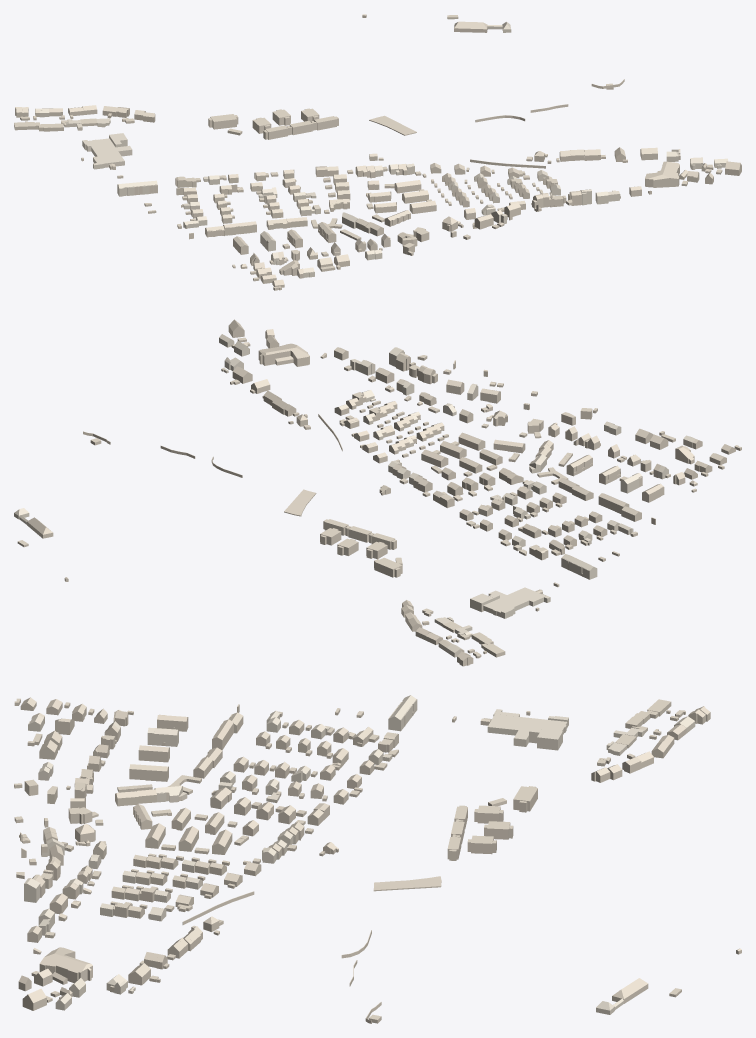
3 views of the same model, one above another, from view 1: azimuth 30°, elevation 25°; view 2: azimuth 150°, elevation 25°; view 3: azimuth 270°, elevation 25° (orthographic). The views are drawn at different scales.
Bounding box in the file's own units: 647 × 40.5 × 609.
